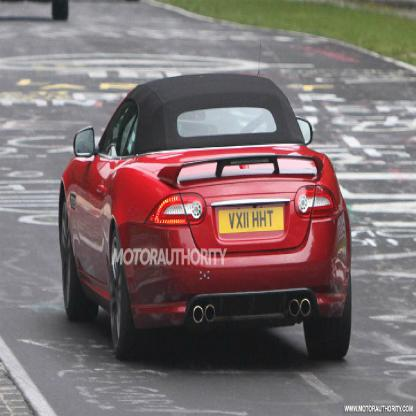Vehicle: (60, 72, 353, 364)
